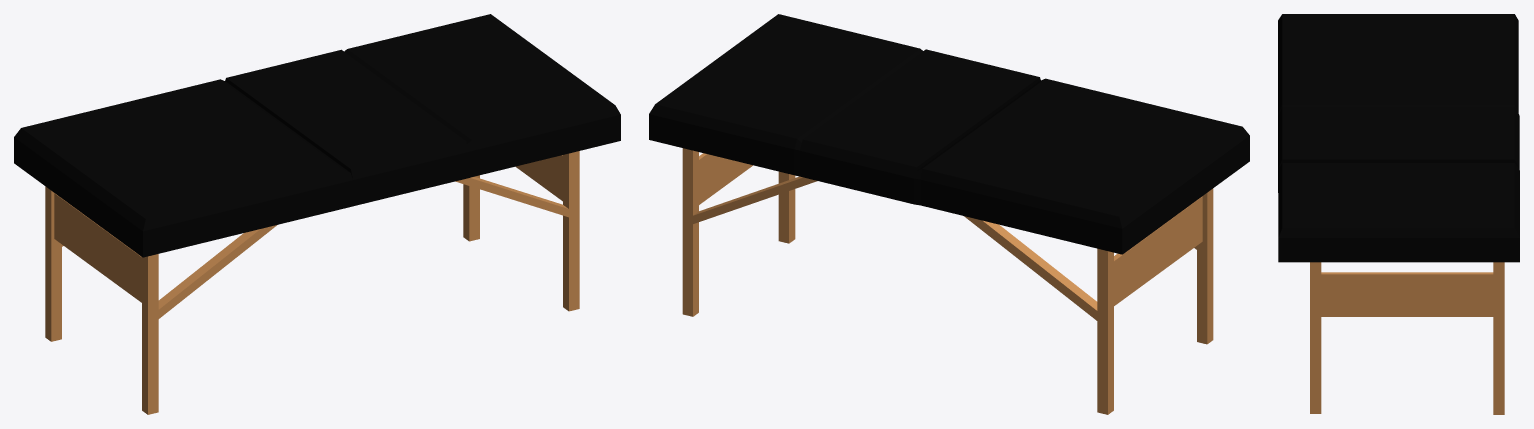
Rendered from table de tatouage.fbx.
3 renders of one model, left to right at view 1: azimuth 30°, elevation 25°; view 2: azimuth 150°, elevation 25°; view 3: azimuth 270°, elevation 25°, orthographic. The views are drawn at different scales.
Visible parts, largest first — view 1: Cube.003; view 2: Cube.003; view 3: Cube.003.
Part boxes in pixels (left/top/right/bottom): Cube.003: left=14, top=14, right=620, bottom=414; Cube.003: left=649, top=14, right=1249, bottom=414; Cube.003: left=1278, top=14, right=1519, bottom=414.
Bounding box in the file's own units: 1274 × 539 × 598.
